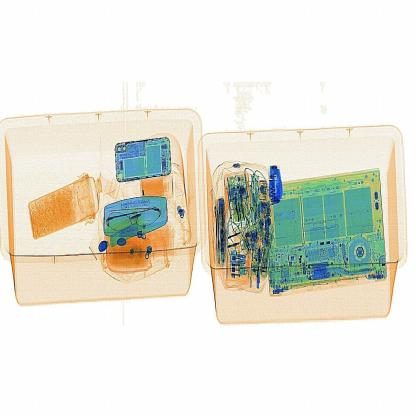scissors: (260, 157, 290, 211)
